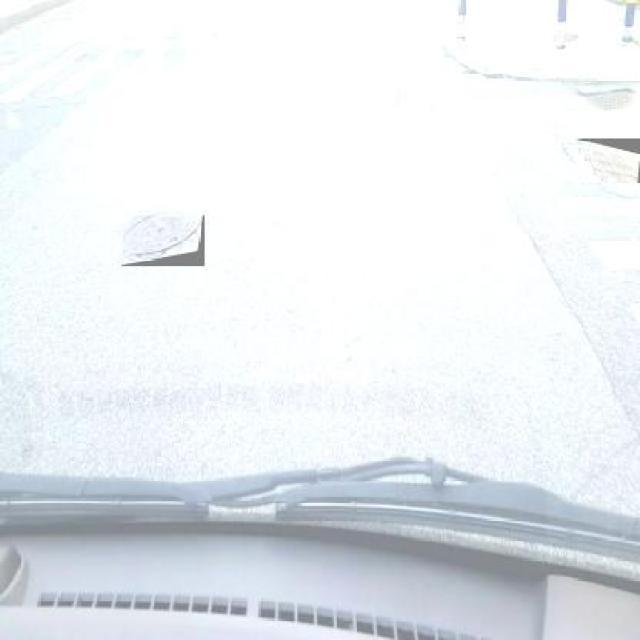Manhole: (122, 215, 205, 266), (575, 138, 640, 184)
